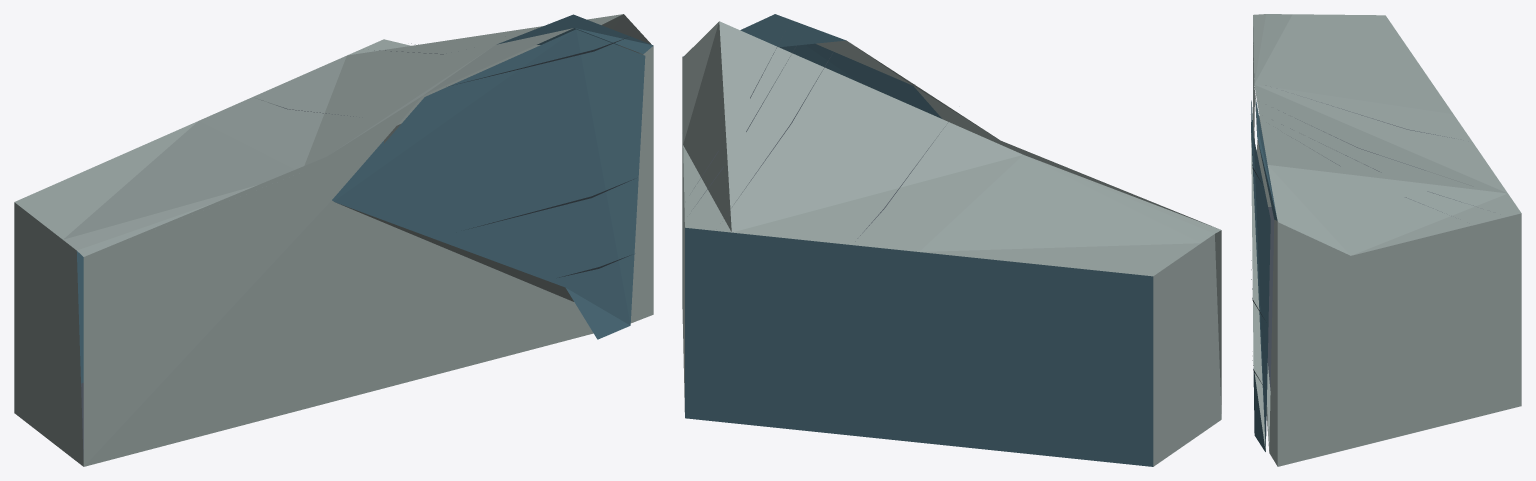
File: arcam.lod2.glb
3 views of the same model, side by side, from view 1: azimuth 30°, elevation 25°; view 2: azimuth 150°, elevation 25°; view 3: azimuth 270°, elevation 25° (orthographic). The views are drawn at different scales.
Visible parts, largest first — view 1: lod2; view 2: lod2; view 3: lod2.
Boxes of the visible parts, x1,y1,x2,y2 form: lod2: (14, 14, 653, 466); lod2: (682, 14, 1221, 466); lod2: (1251, 14, 1521, 466).
Size of the model in its own units: 26.77 by 14.5 by 11.8.
